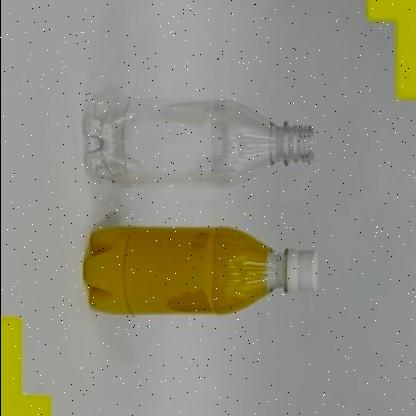Plastic Bottle: (83, 228, 317, 316), (83, 99, 316, 187)
